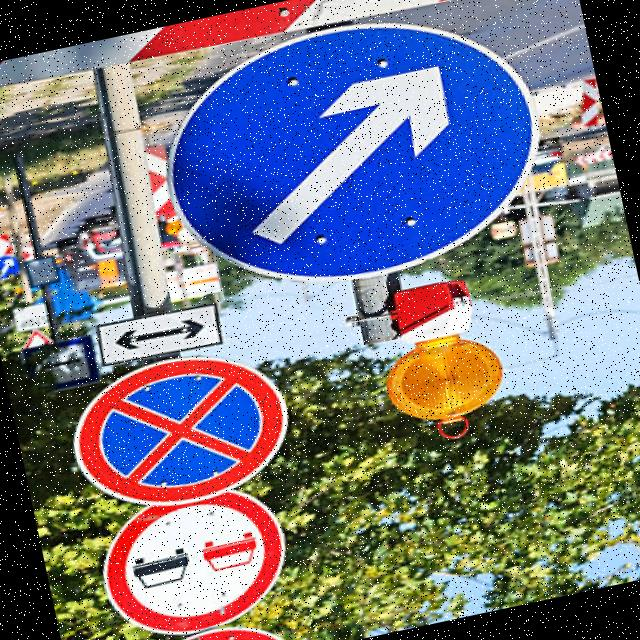no_parking: (55, 320, 314, 526)
no_passing: (82, 475, 314, 640)
